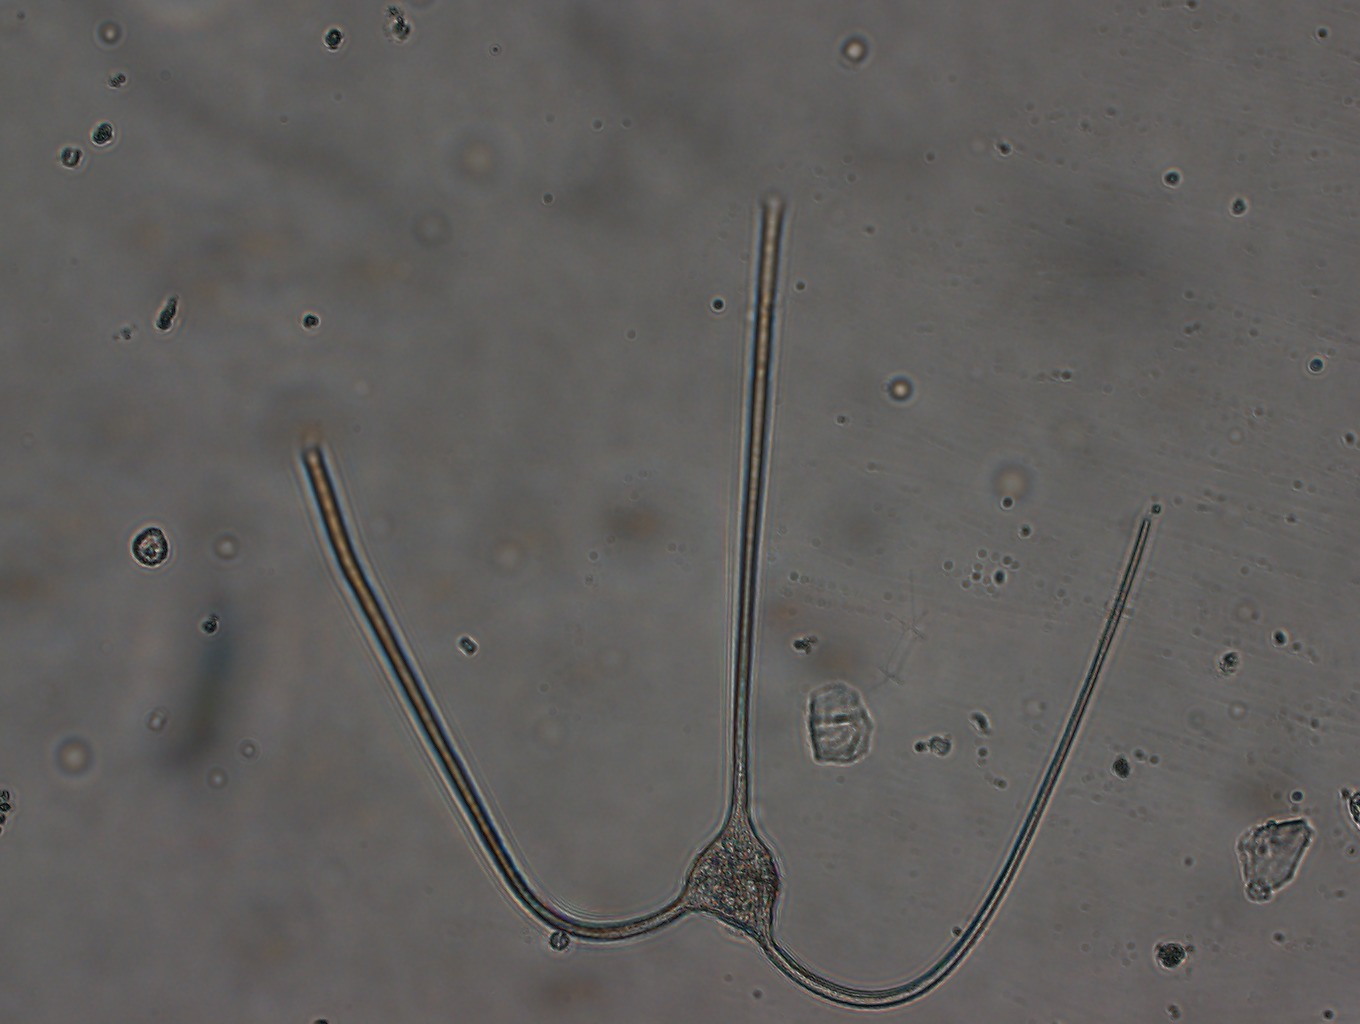ceratium trichoceros: (292, 183, 1160, 1015)
